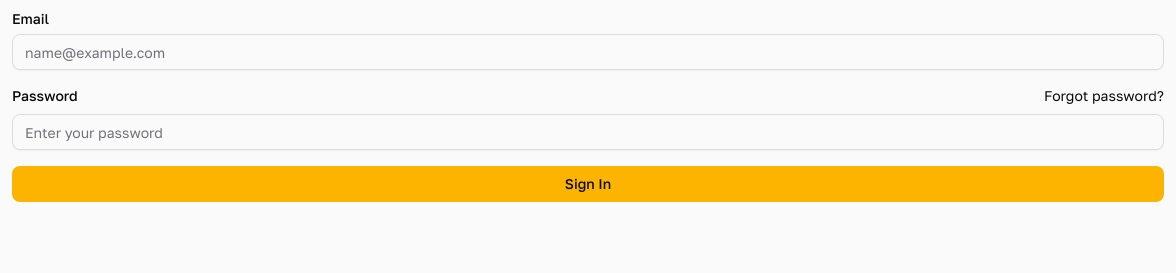
LoginForm › replaces a raw Axios 401 with actionable copy and focuses the alert
Type "operator@example.com" into the field labelled "Email" at (588, 52), box [12,34,1164,70]
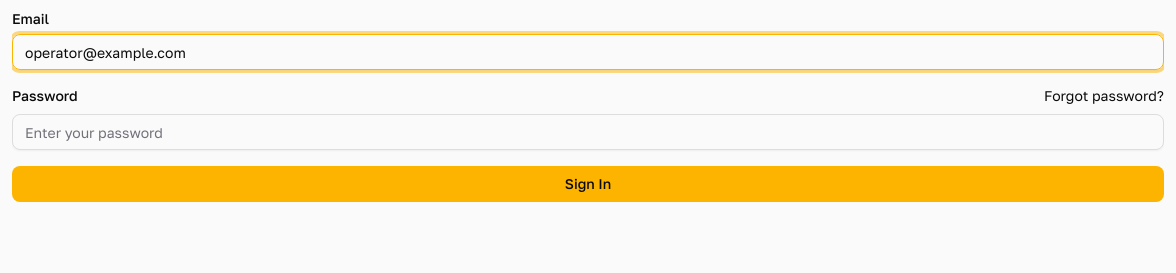
Type "not-the-password" into the password field labelled "Password" at (588, 132), box [12,114,1164,150]
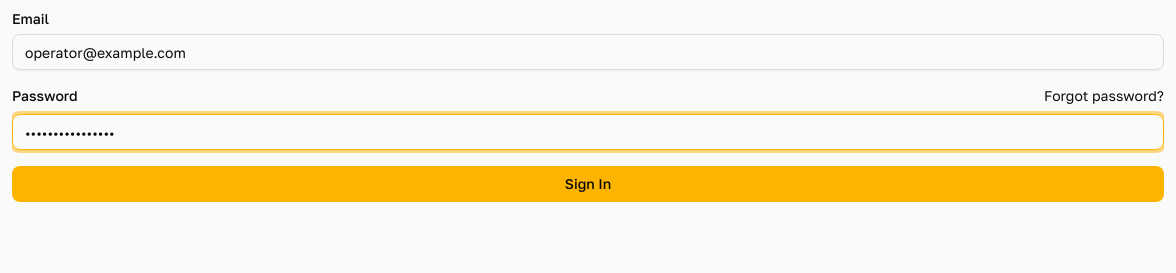
Click the button "Sign In" at (588, 184), box [12,166,1164,202]
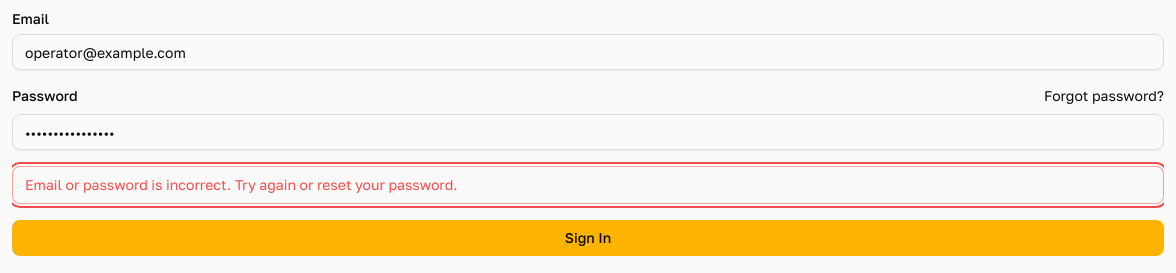
Now the message reads "Email or password is incorrect. Try again or reset your password.", box [25,176,458,193]
